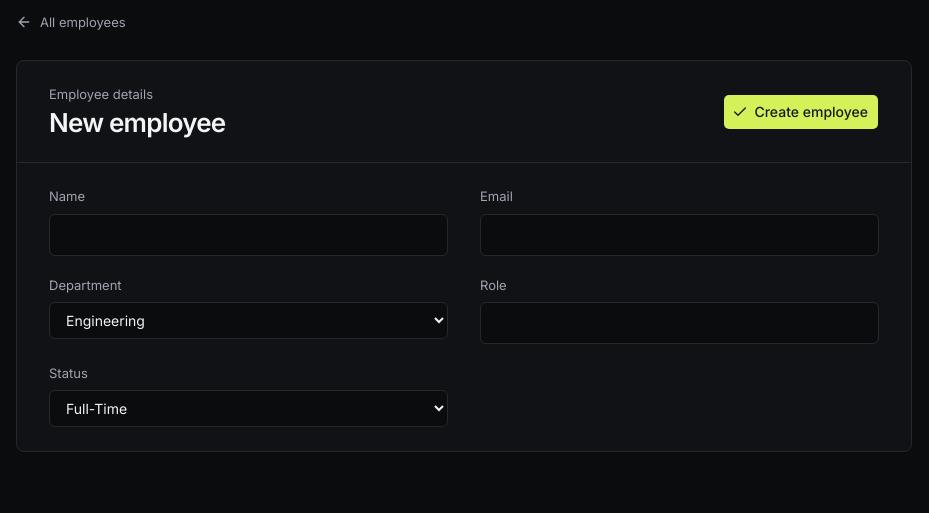
EmployeeEditor › clears a field error when the user changes that field
Click the button "Create employee" at (801, 112), box 723,94 -> 879,130
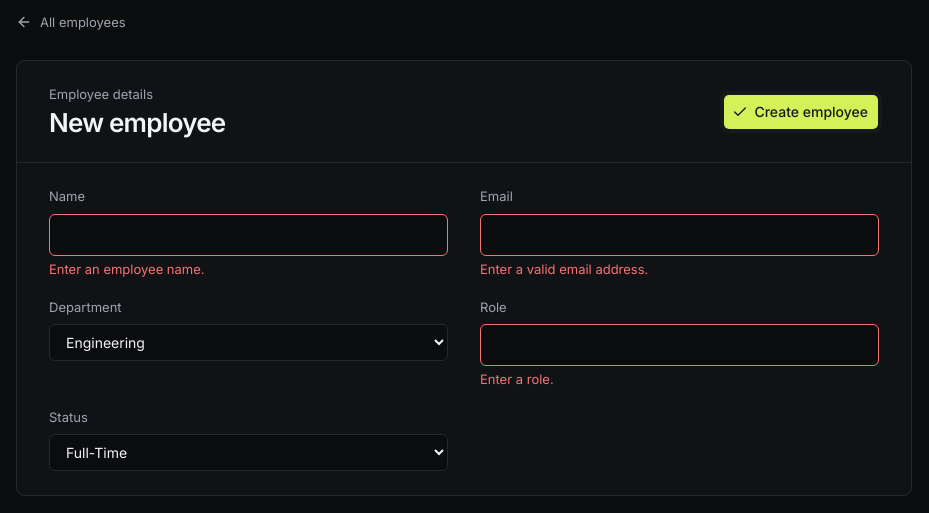
Now the text "Enter an employee name." is shown, box 49,261 -> 205,277
Type "Jane Doe" into the field labelled "Name" at (248, 235), box 49,214 -> 448,256
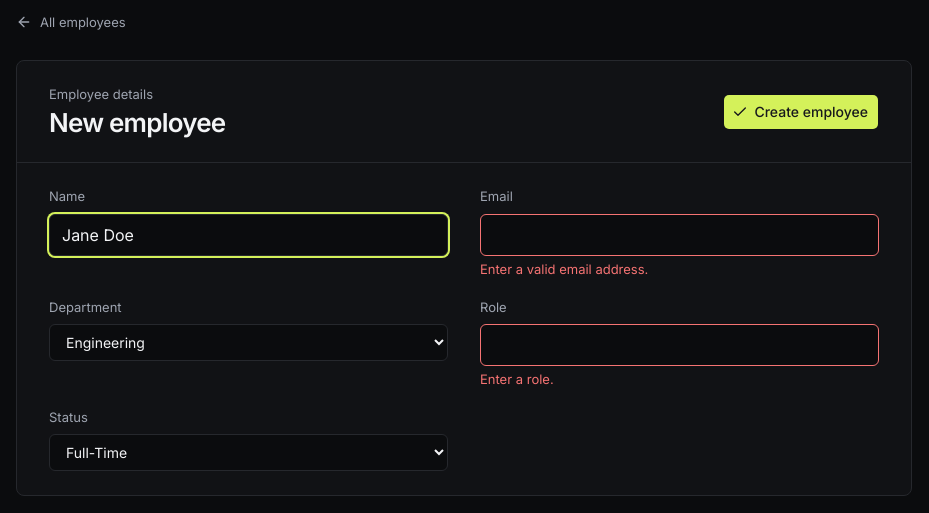
Now the text "Enter an employee name." is gone
